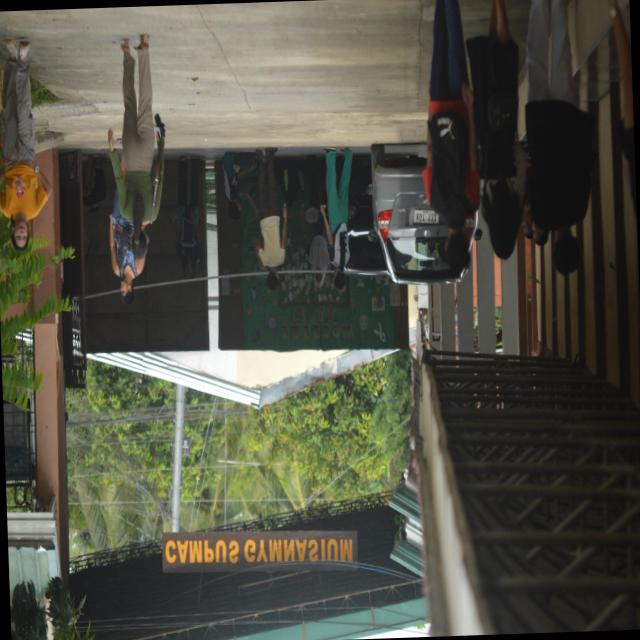person: (526, 0, 594, 273), (423, 0, 480, 271), (467, 0, 526, 257), (109, 33, 164, 257), (0, 39, 52, 250), (608, 0, 636, 214), (254, 147, 287, 289), (321, 146, 353, 288), (110, 188, 145, 303), (176, 156, 202, 277), (223, 151, 258, 219), (302, 207, 330, 286)
